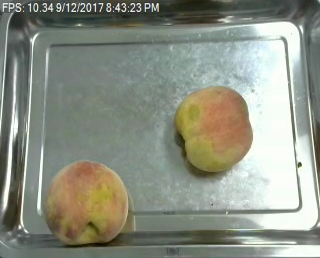Peach: (44, 160, 128, 243), (174, 85, 253, 173)
